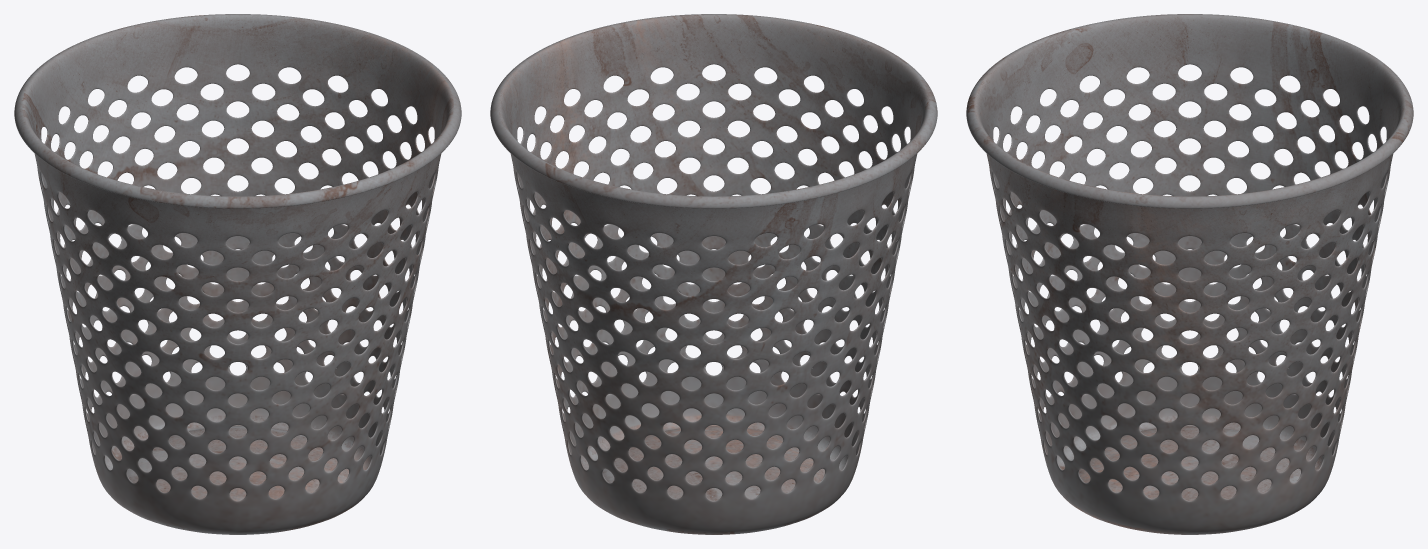
Rendered from WasteBinFinal.fbx.
3 views of the same model, side by side, from view 1: azimuth 30°, elevation 25°; view 2: azimuth 150°, elevation 25°; view 3: azimuth 270°, elevation 25° (orthographic).
Parts seen in each view (by area): view 1: Cylinder; view 2: Cylinder; view 3: Cylinder.
Part boxes in pixels (x1,y1,x2,y2): Cylinder: (14, 14, 461, 534); Cylinder: (490, 14, 937, 534); Cylinder: (966, 14, 1413, 534).
Size of the model in its own units: 50.43 by 46.63 by 50.43.
1 material, 1 textured.
